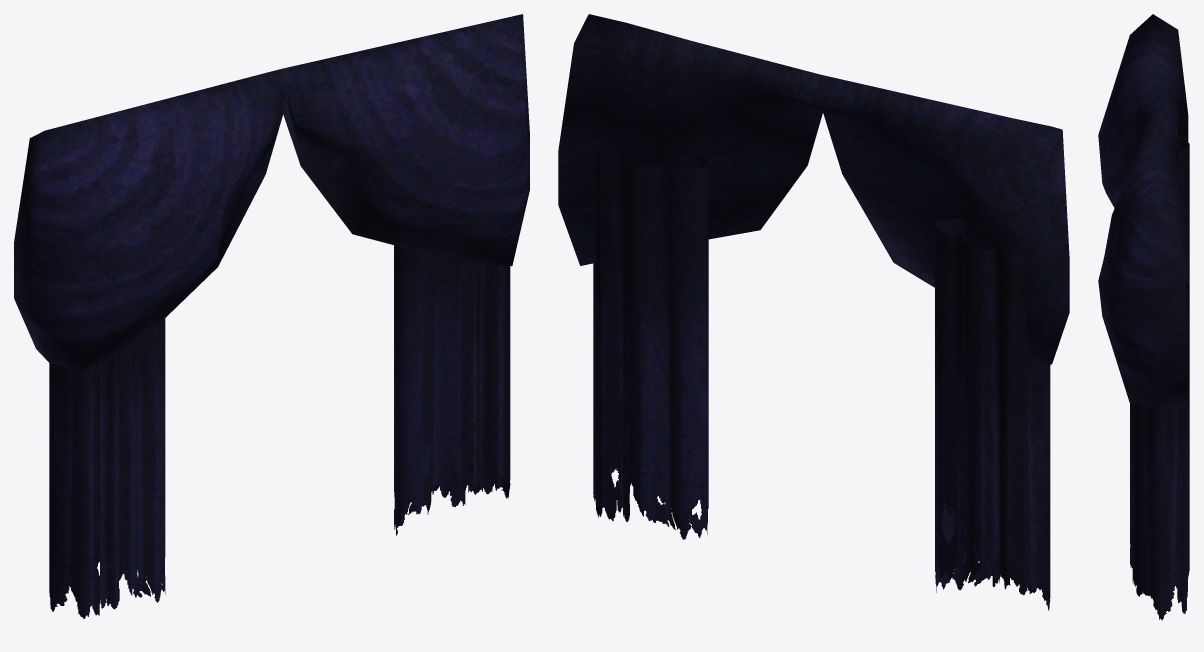
File: 42_curtain02_blue_long_broken.dae
The picture shows the model from 3 angles, left to right: view 1: azimuth 30°, elevation 25°; view 2: azimuth 150°, elevation 25°; view 3: azimuth 270°, elevation 25°; orthographic projection. The views are drawn at different scales.
Visible parts, largest first — view 1: polySurface191, polySurface192; view 2: polySurface191, polySurface192; view 3: polySurface191.
Boxes of the visible parts, x1,y1,x2,y2 form: polySurface191: (14,14,529,618); polySurface192: (68,419,494,594); polySurface191: (558,14,1069,610); polySurface192: (610,466,1030,593); polySurface191: (1098,14,1189,620).
Size of what is drawn, in the model's own units: 2.5 by 2.42 by 0.4673.
